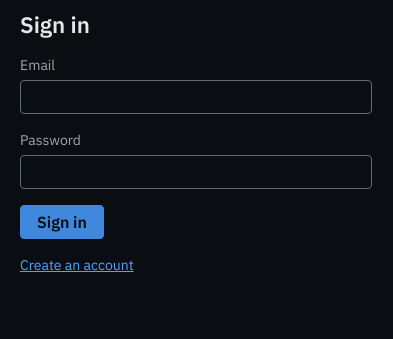
Test: AuthPage › renders the generic connection message for a plain Error
In the field labelled "Email": x=196, y=97 left=20, top=80, right=372, bottom=114, type "ada@example.com"
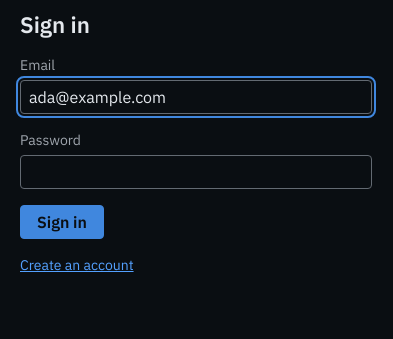
In the password field labelled "Password": x=196, y=172 left=20, top=155, right=372, bottom=189, type "correct horse"
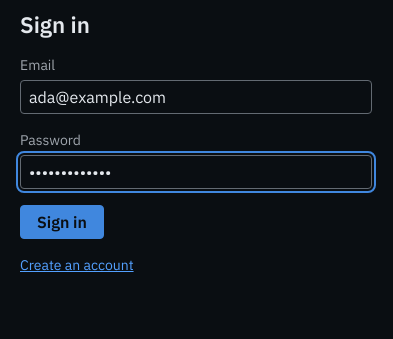
Click the button "Sign in": x=62, y=222 left=20, top=205, right=104, bottom=239
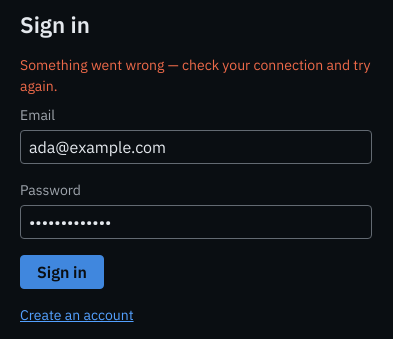
Now the message reads "Something went wrong — check your connection and try again.", box left=20, top=56, right=370, bottom=95
